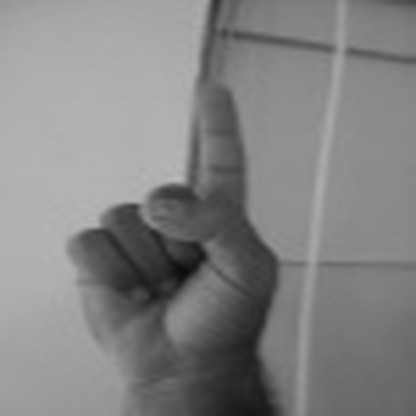d: (60, 74, 287, 370)
